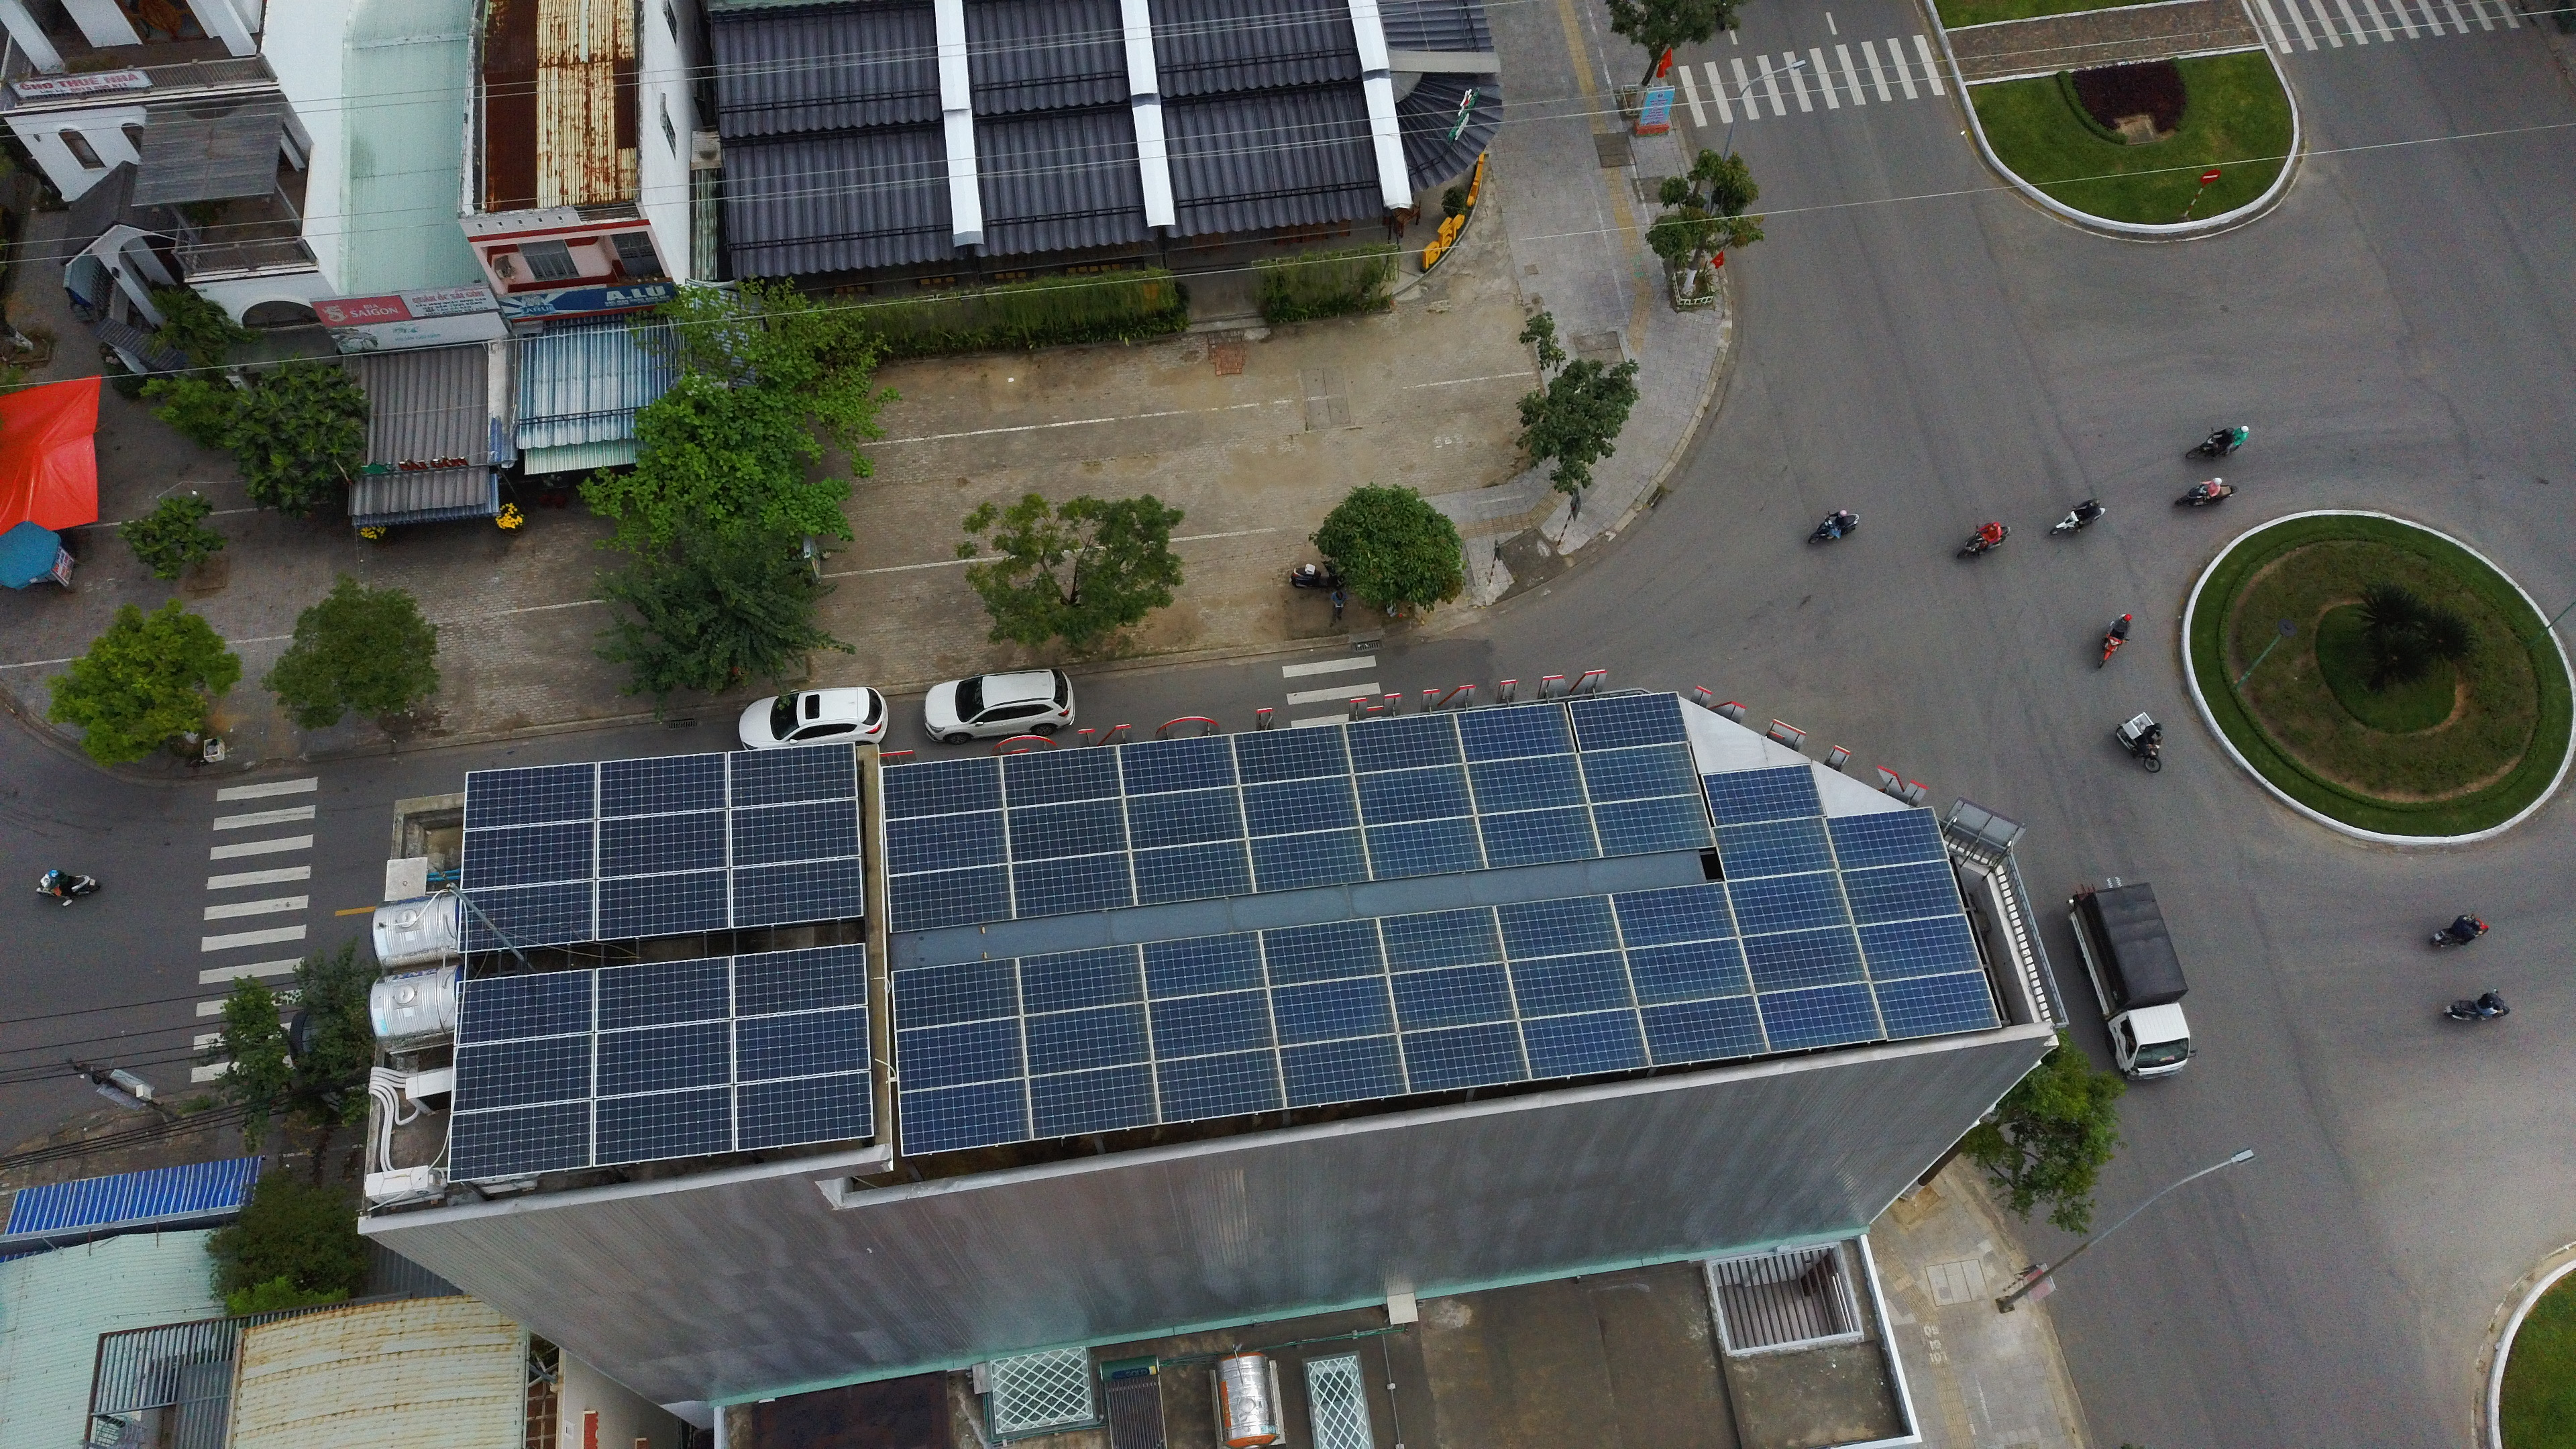solar: (446, 1099, 593, 1185), (448, 1030, 594, 1113), (734, 1065, 874, 1152), (593, 1017, 732, 1100), (594, 1083, 734, 1166), (732, 1003, 869, 1085), (897, 1076, 1033, 1157), (594, 954, 732, 1033), (453, 968, 596, 1044), (892, 1016, 1026, 1095), (731, 943, 867, 1021), (1274, 1031, 1410, 1109), (1021, 998, 1154, 1077), (1152, 1046, 1284, 1125), (455, 879, 596, 954), (1396, 1019, 1534, 1095), (1026, 1060, 1161, 1136), (1143, 985, 1277, 1062), (1637, 993, 1771, 1069), (458, 819, 596, 892), (596, 867, 731, 941), (1385, 959, 1520, 1033), (890, 955, 1021, 1031), (1138, 927, 1269, 1003), (1267, 973, 1399, 1047), (1504, 947, 1637, 1021), (1520, 1005, 1652, 1079), (464, 761, 598, 833), (729, 855, 863, 927), (1373, 904, 1507, 977), (1753, 980, 1888, 1053), (1851, 911, 1985, 984), (1868, 968, 2003, 1040), (729, 794, 860, 869), (1016, 943, 1146, 1017), (1491, 892, 1624, 964), (596, 748, 729, 819), (596, 809, 729, 879), (727, 741, 860, 812), (1258, 916, 1387, 989), (1737, 924, 1872, 993), (881, 807, 1012, 878), (886, 862, 1017, 932), (1624, 936, 1755, 1007), (1606, 881, 1737, 950), (878, 754, 1007, 823), (1000, 745, 1129, 814), (1001, 796, 1131, 865), (1008, 849, 1138, 918), (1127, 837, 1256, 906), (1709, 814, 1838, 883), (1723, 867, 1852, 936), (1836, 858, 1966, 927), (1822, 805, 1950, 874), (1244, 826, 1373, 893), (1116, 732, 1244, 800), (1359, 816, 1486, 883), (1587, 793, 1716, 858), (1700, 763, 1828, 828), (1352, 761, 1476, 828), (1477, 805, 1606, 869), (1122, 784, 1247, 849), (1238, 773, 1362, 839), (1339, 713, 1465, 777), (1451, 702, 1576, 766), (1463, 752, 1589, 816), (1575, 741, 1700, 805), (1230, 724, 1352, 787), (1566, 692, 1688, 755)
